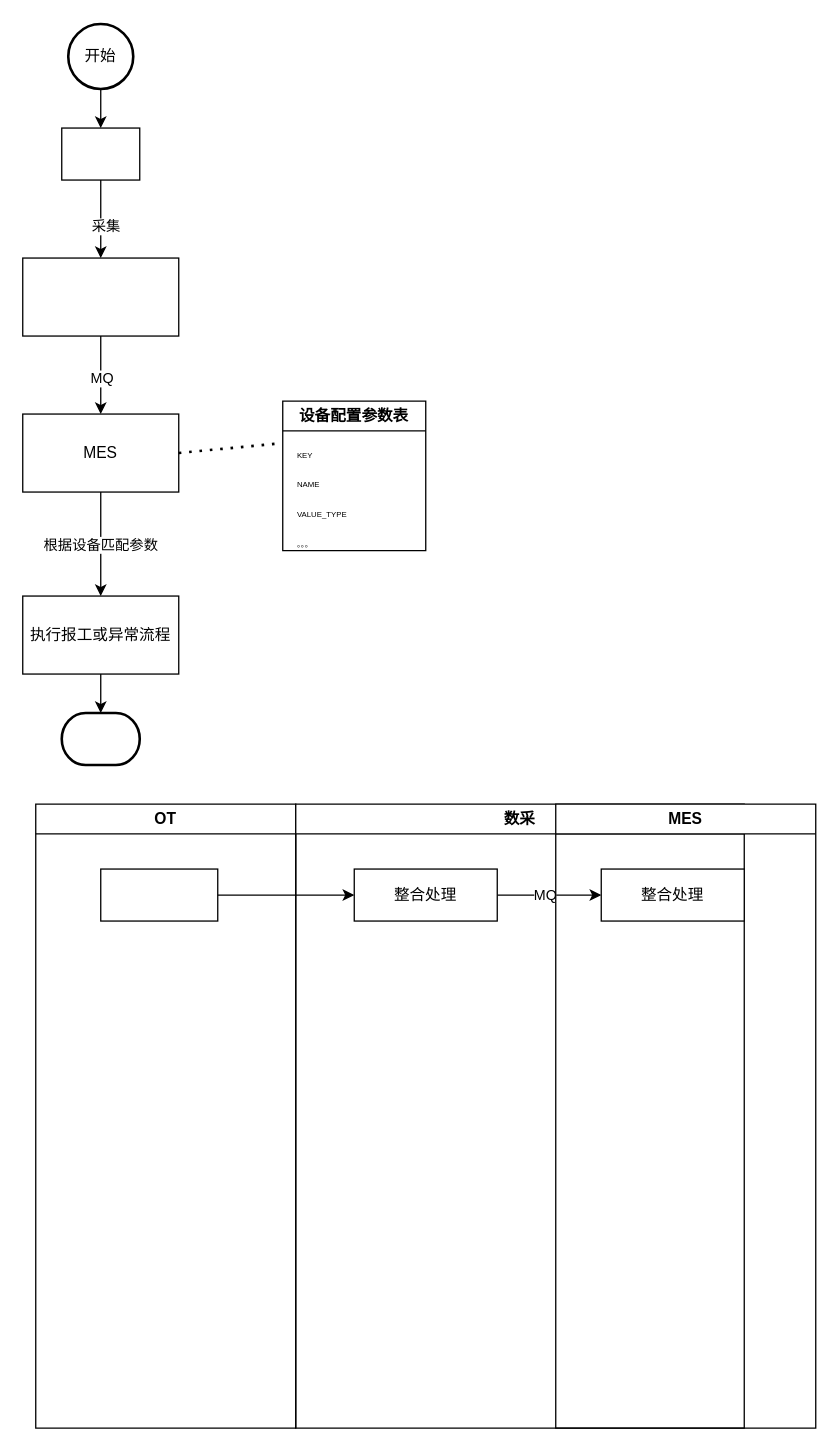
Image size: 838x1451. Some labels were removed from this diagram. Each missing label, with the centre of its shape:
"OT设备" goes at (x=100, y=153).
"数采系统" goes at (x=100, y=296).
"结束" goes at (x=100, y=738).
"设备状态变化" goes at (x=158, y=894).
